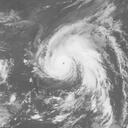cyclone: (31, 21, 103, 83)
